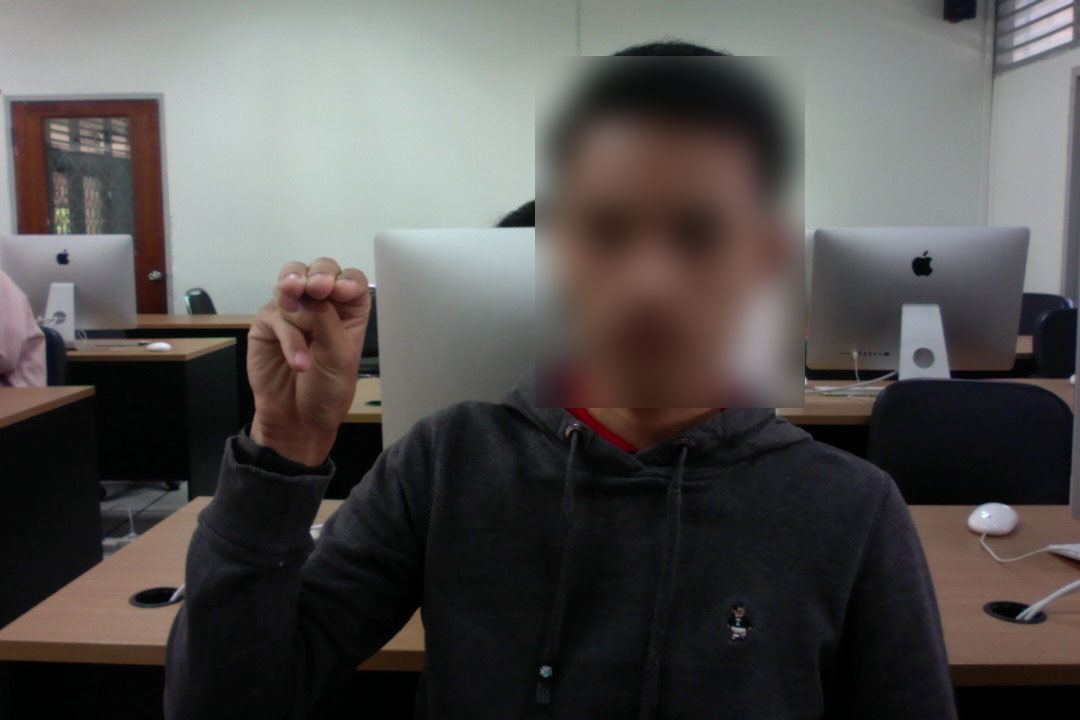mor: (244, 241, 375, 438)
